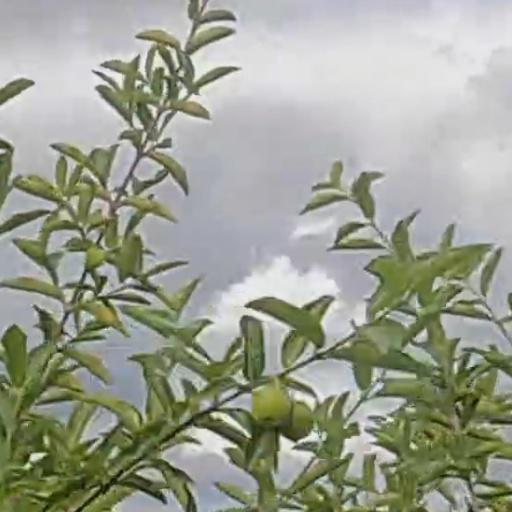acerola: (253, 389, 290, 428), (282, 403, 312, 441)
